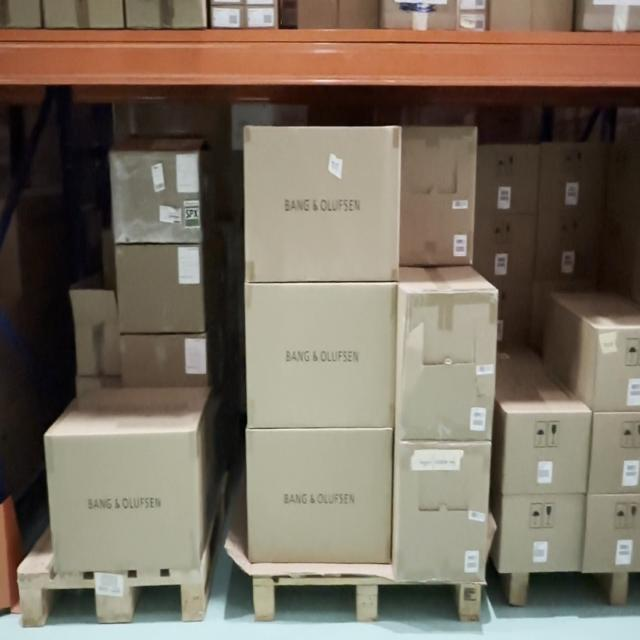box: (243, 128, 402, 287), (250, 284, 398, 436), (50, 436, 199, 566), (248, 430, 387, 564), (403, 291, 492, 440), (395, 446, 488, 580), (108, 154, 204, 235), (504, 414, 590, 494), (118, 248, 203, 326), (502, 503, 583, 571)
